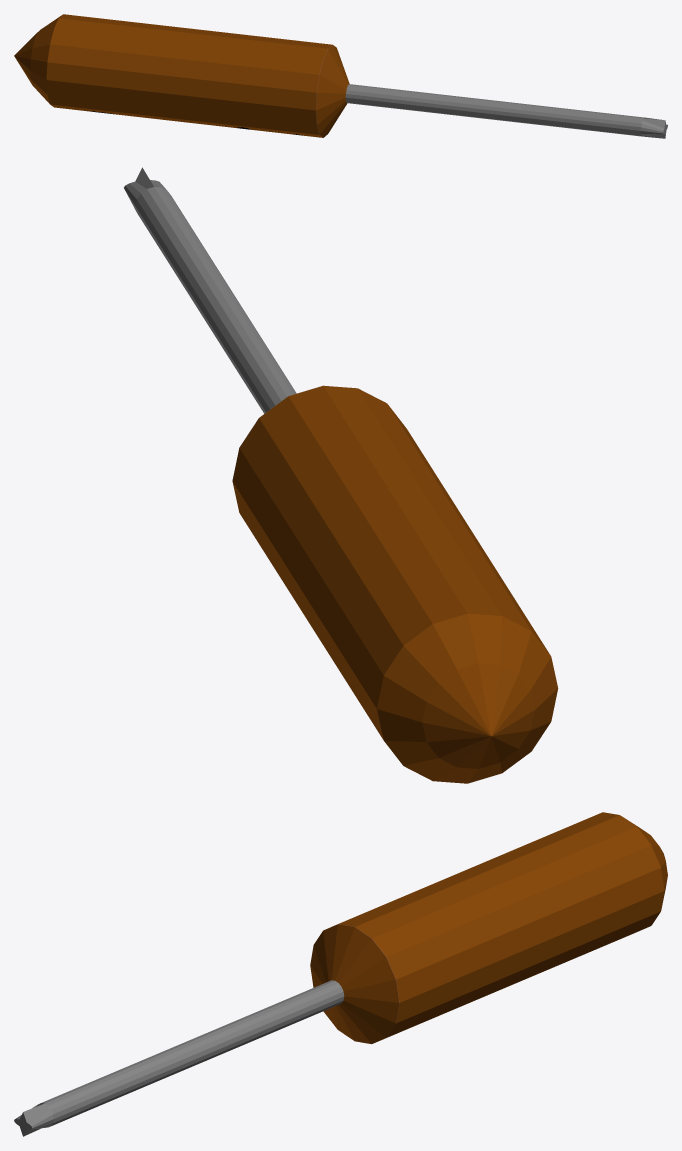
Rendered from screwdriver.glb.
3 views of the same model, one above another, from view 1: azimuth 30°, elevation 25°; view 2: azimuth 150°, elevation 25°; view 3: azimuth 270°, elevation 25° (orthographic). The views are drawn at different scales.
Visible parts, largest first — view 1: Cylinder; view 2: Cylinder; view 3: Cylinder.
Part boxes in pixels (x1,y1,x2,y2): Cylinder: (14, 14, 667, 138); Cylinder: (124, 167, 558, 783); Cylinder: (14, 812, 667, 1136).
Bounding box in the file's own units: 0.6751 × 0.1302 × 0.6751.
Materials: 1 (1 with a texture image).
